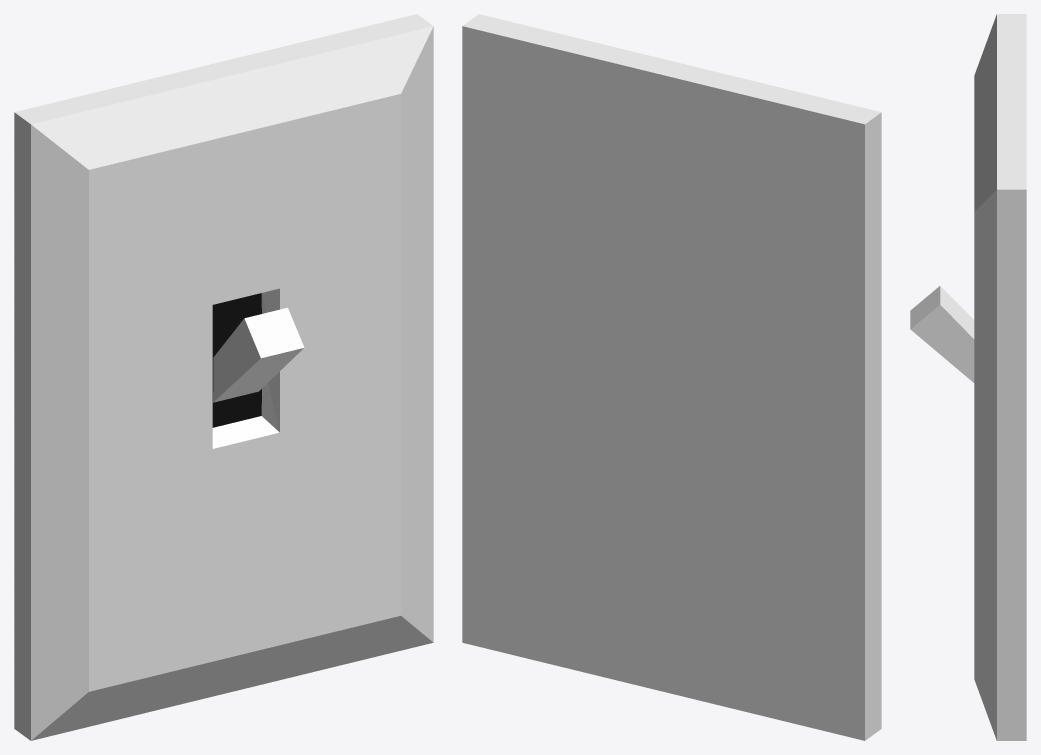
Rendered from Light_Switch.FBX.
3 renders of one model, left to right at view 1: azimuth 30°, elevation 25°; view 2: azimuth 150°, elevation 25°; view 3: azimuth 270°, elevation 25°, orthographic. The views are drawn at different scales.
Parts seen in each view (by area): view 1: Light_Switch; view 2: Light_Switch; view 3: Light_Switch.
Part boxes in pixels (x1,y1,x2,y2): Light_Switch: [14, 14, 433, 740]; Light_Switch: [462, 14, 881, 740]; Light_Switch: [910, 14, 1026, 740].
Size of the model in its own units: 39.79 by 58.21 by 11.1.
